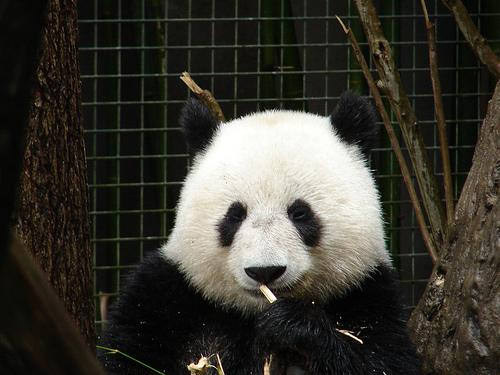panda: (98, 92, 420, 374)
